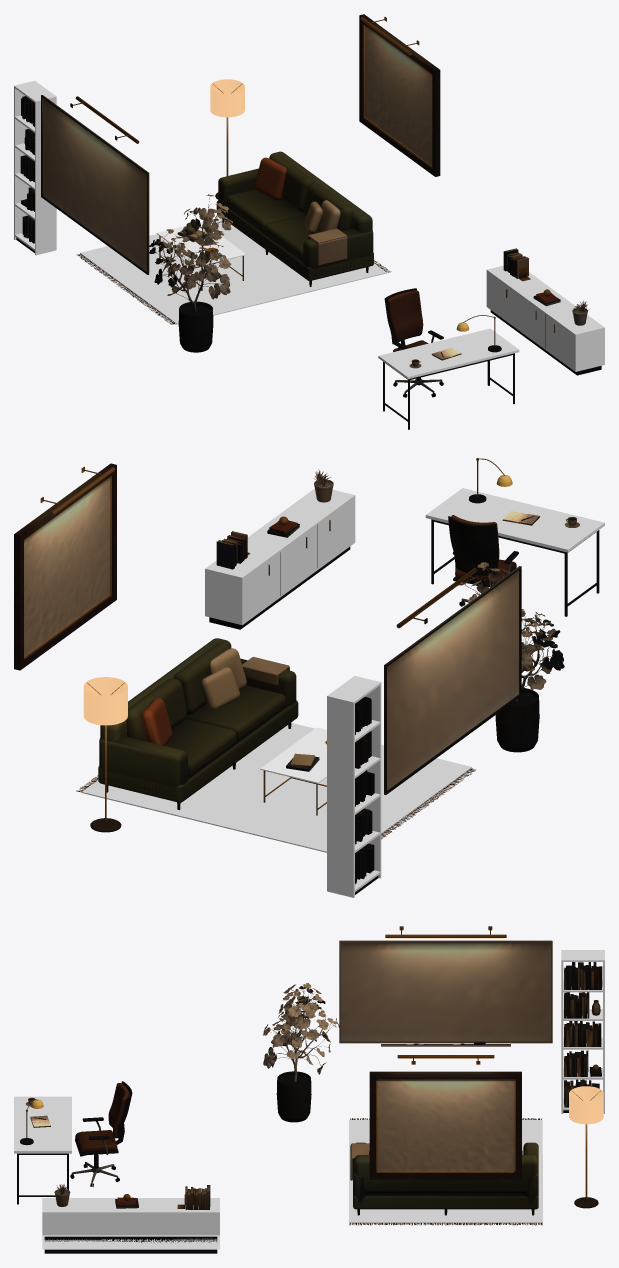
The model's file is study.glb.
The picture shows the model from 3 angles, top to bottom: view 1: azimuth 30°, elevation 25°; view 2: azimuth 150°, elevation 25°; view 3: azimuth 270°, elevation 25°; orthographic projection. The views are drawn at different scales.
Parts seen in each view (by area): view 1: study__ground__vtx, study__ground__stu, study__ground__raw; view 2: study__ground__vtx, study__ground__stu, study__ground__raw; view 3: study__ground__vtx, study__ground__stu, study__ground__raw.
Boxes of the visible parts, x1=… form: study__ground__vtx: x1=16, y1=14, x2=601, y2=429; study__ground__stu: x1=14, y1=80, x2=604, y2=379; study__ground__raw: x1=156, y1=79, x2=246, y2=264; study__ground__vtx: x1=14, y1=458, x2=599, y2=894; study__ground__stu: x1=82, y1=488, x2=604, y2=897; study__ground__raw: x1=83, y1=677, x2=326, y2=783; study__ground__vtx: x1=17, y1=926, x2=602, y2=1253; study__ground__stu: x1=14, y1=950, x2=604, y2=1249; study__ground__raw: x1=387, y1=938, x2=603, y2=1124.
Size of the model in its own units: 4.58 by 2.64 by 7.32.
